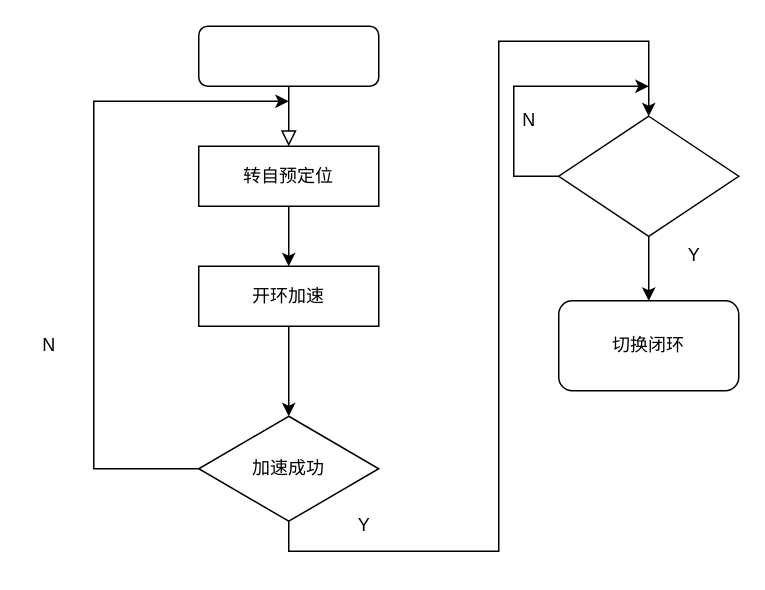
Image size: 765x590. Some labels were removed from this diagram. The shapes that lost their labels are listed below. From the top down, each one's centre as x and y in pixels, then its label:
the point at 288,55: 启动
the point at 648,175: 反电动势过零检测
